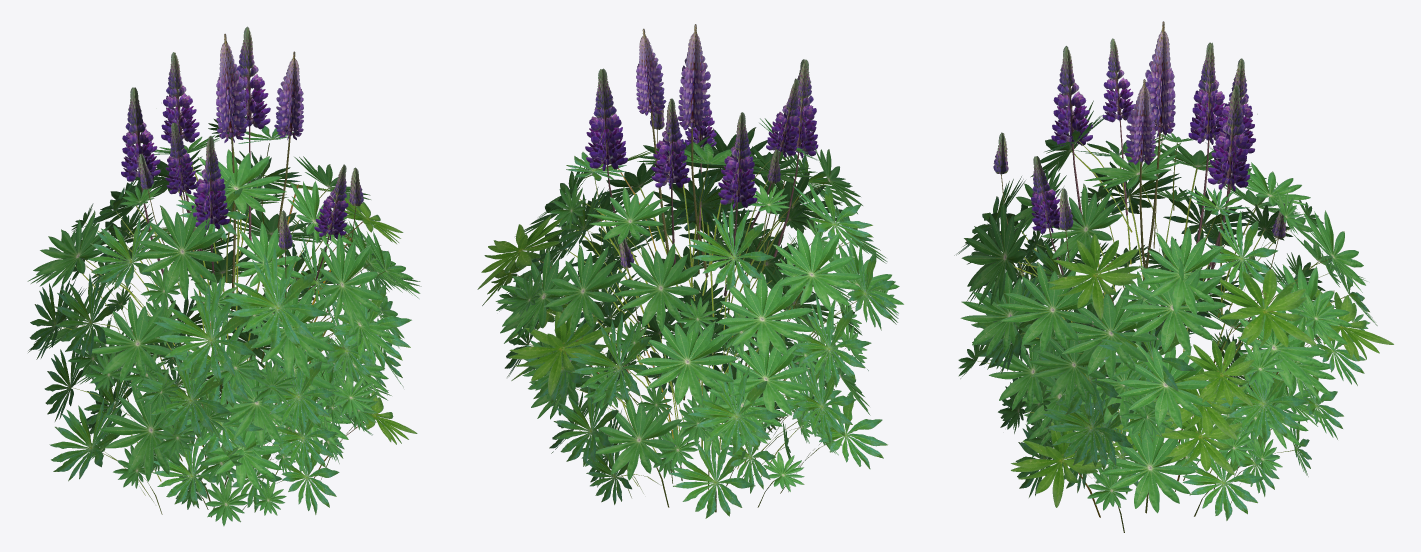
The model's file is lupine.glb.
3 renders of one model, left to right at view 1: azimuth 30°, elevation 25°; view 2: azimuth 150°, elevation 25°; view 3: azimuth 270°, elevation 25°, orthographic. The views are drawn at different scales.
Parts seen in each view (by area): view 1: Object_2; view 2: Object_2; view 3: Object_2.
Boxes of the visible parts, x1=… form: Object_2: x1=27, y1=26, x2=421, y2=526; Object_2: x1=477, y1=24, x2=903, y2=518; Object_2: x1=954, y1=21, x2=1393, y2=532.
Size of the model in its own units: 76.55 by 88.77 by 77.27.
Materials: 1 (1 with a texture image).
